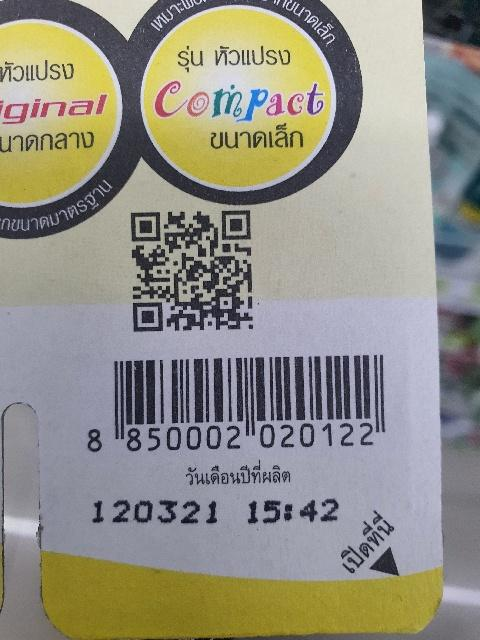Barcode: (79, 344, 395, 459)
